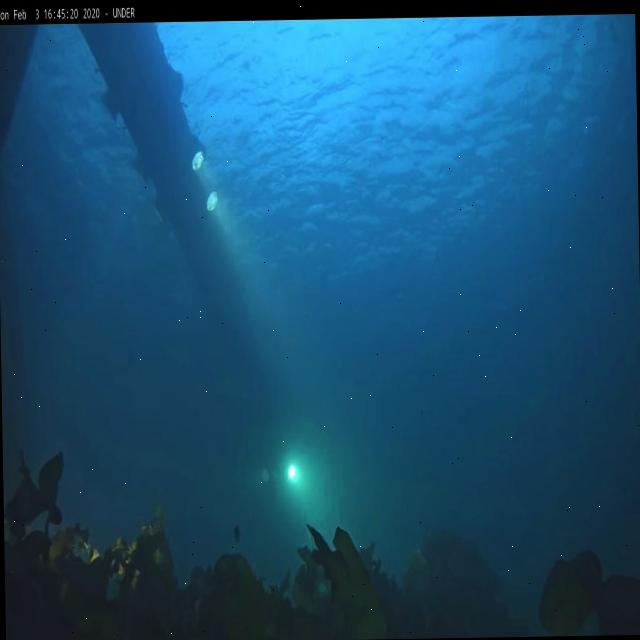fish: (234, 524, 242, 544)
